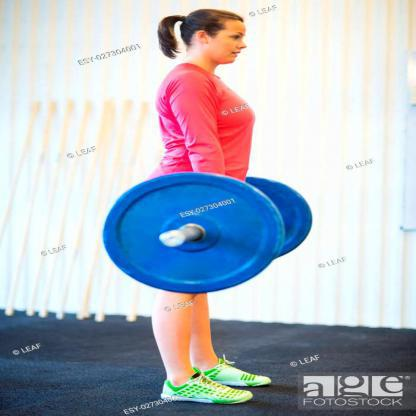Barbell: (98, 168, 294, 298)
